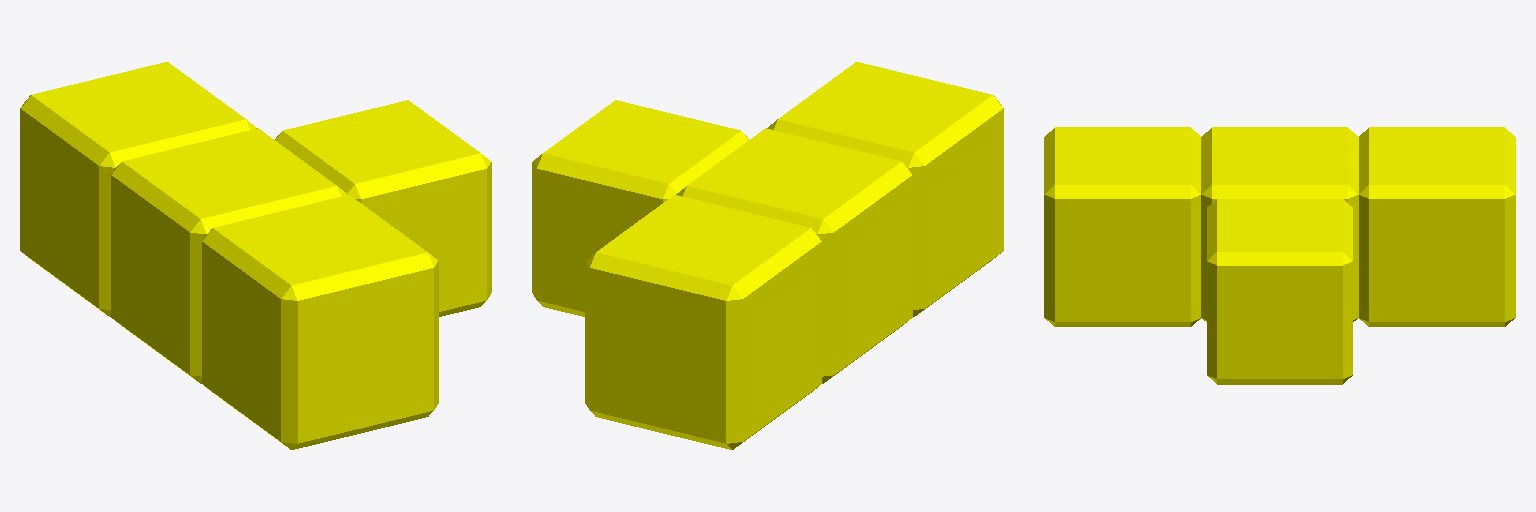
The robot description file, URDF, robot "ball":
<?xml version="1.0" ?>
<robot name="ball">
    <material name="light_gold">
        <color rgba="0.9333333333333333 0.8627450980392157 0.5098039215686274 1"/>
    </material>
    <material name="gray">
        <color rgba="0.7450980392156863 0.7450980392156863 0.7450980392156863 1"/>
    </material>
    <material name="red">
        <color rgba="1 0 0 1"/>
    </material>
    <material name="orange">
        <color rgba="1 0.647058823 0 1"/>
    </material>
     <material name="yellow">
        <color rgba="1 1 0 1"/>
    </material>
    <material name="green">
        <color rgba="0 0.9803921 0.603921   1"/>
    </material>

    <material name="blue">
        <color rgba="0.52941176 0.807843 1   1"/>
    </material>
    <material name="purple">
        <color rgba="0.698 0.2274509 0.933333   1"/>
    </material>


  <link name="ballLink">
    <contact>
      <lateral_friction value="1"/>
    </contact>
    <inertial>
      <origin rpy="0 0 0" xyz="0.006165 0 0"/>
       <mass value="0.063"/>
       <inertia ixx="0.00003879" ixy=" 0.00000" ixz="0.00000000"
               iyy="0.00001784" iyz="0.00000000"
               izz="0.00004769"/>
    </inertial>

    <visual>
      <origin rpy="0 0 0" xyz="0 0 0"/>
      <geometry>
			<mesh filename="meshes/tu_cube3.STL" scale="1 1 1"/>
      </geometry>
        <material name="yellow"/>
    </visual>

    <collision>
      <origin
        xyz="0 0 0"
        rpy="0 0 0" />
      <geometry>
       <box size="0.03 0.09 0.03"/>
      </geometry>
    </collision>

    <collision>
      <origin
        xyz="0.03 0.00 0"
        rpy="0 0 0" />
      <geometry>
       <box size="0.03 0.028 0.03"/>
      </geometry>
    </collision>


  </link>
</robot>

--- Facts derived from the render (not from the file) ---
3 views of the same robot in one strip: view 1: azimuth 30°, elevation 25°; view 2: azimuth 150°, elevation 25°; view 3: azimuth 270°, elevation 25° (orthographic).
Model ball with 1 links and 0 joints (none), rooted at ballLink, posed all joints at 0.
Links seen in each view (by area): view 1: ballLink; view 2: ballLink; view 3: ballLink.
Link boxes in pixels (bbox=[...]): ballLink: bbox=[20, 62, 491, 449]; ballLink: bbox=[532, 62, 1003, 449]; ballLink: bbox=[1044, 127, 1515, 384].
Size in the robot's own frame: 0.058 by 0.09 by 0.03 metres.
1 mesh visuals loaded from 1 distinct referenced files (1 binary STL).